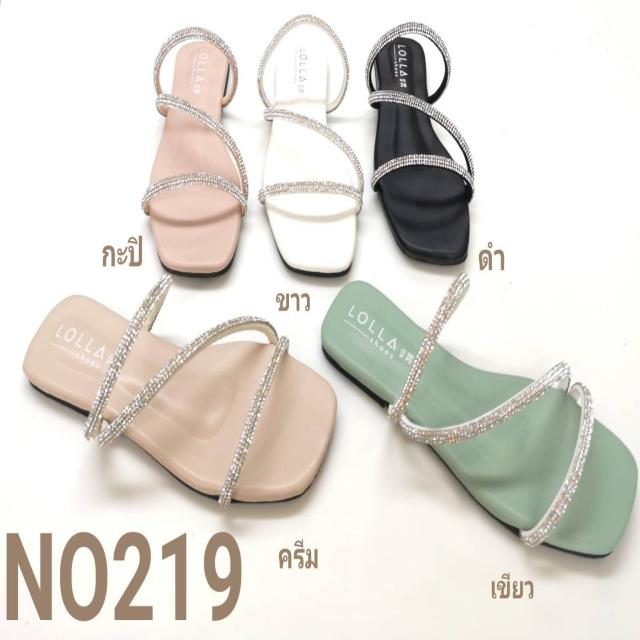black: (368, 33, 474, 262)
cream: (21, 291, 335, 518)
green: (322, 278, 636, 567)
kapi: (148, 34, 243, 276)
white: (264, 27, 358, 272)
